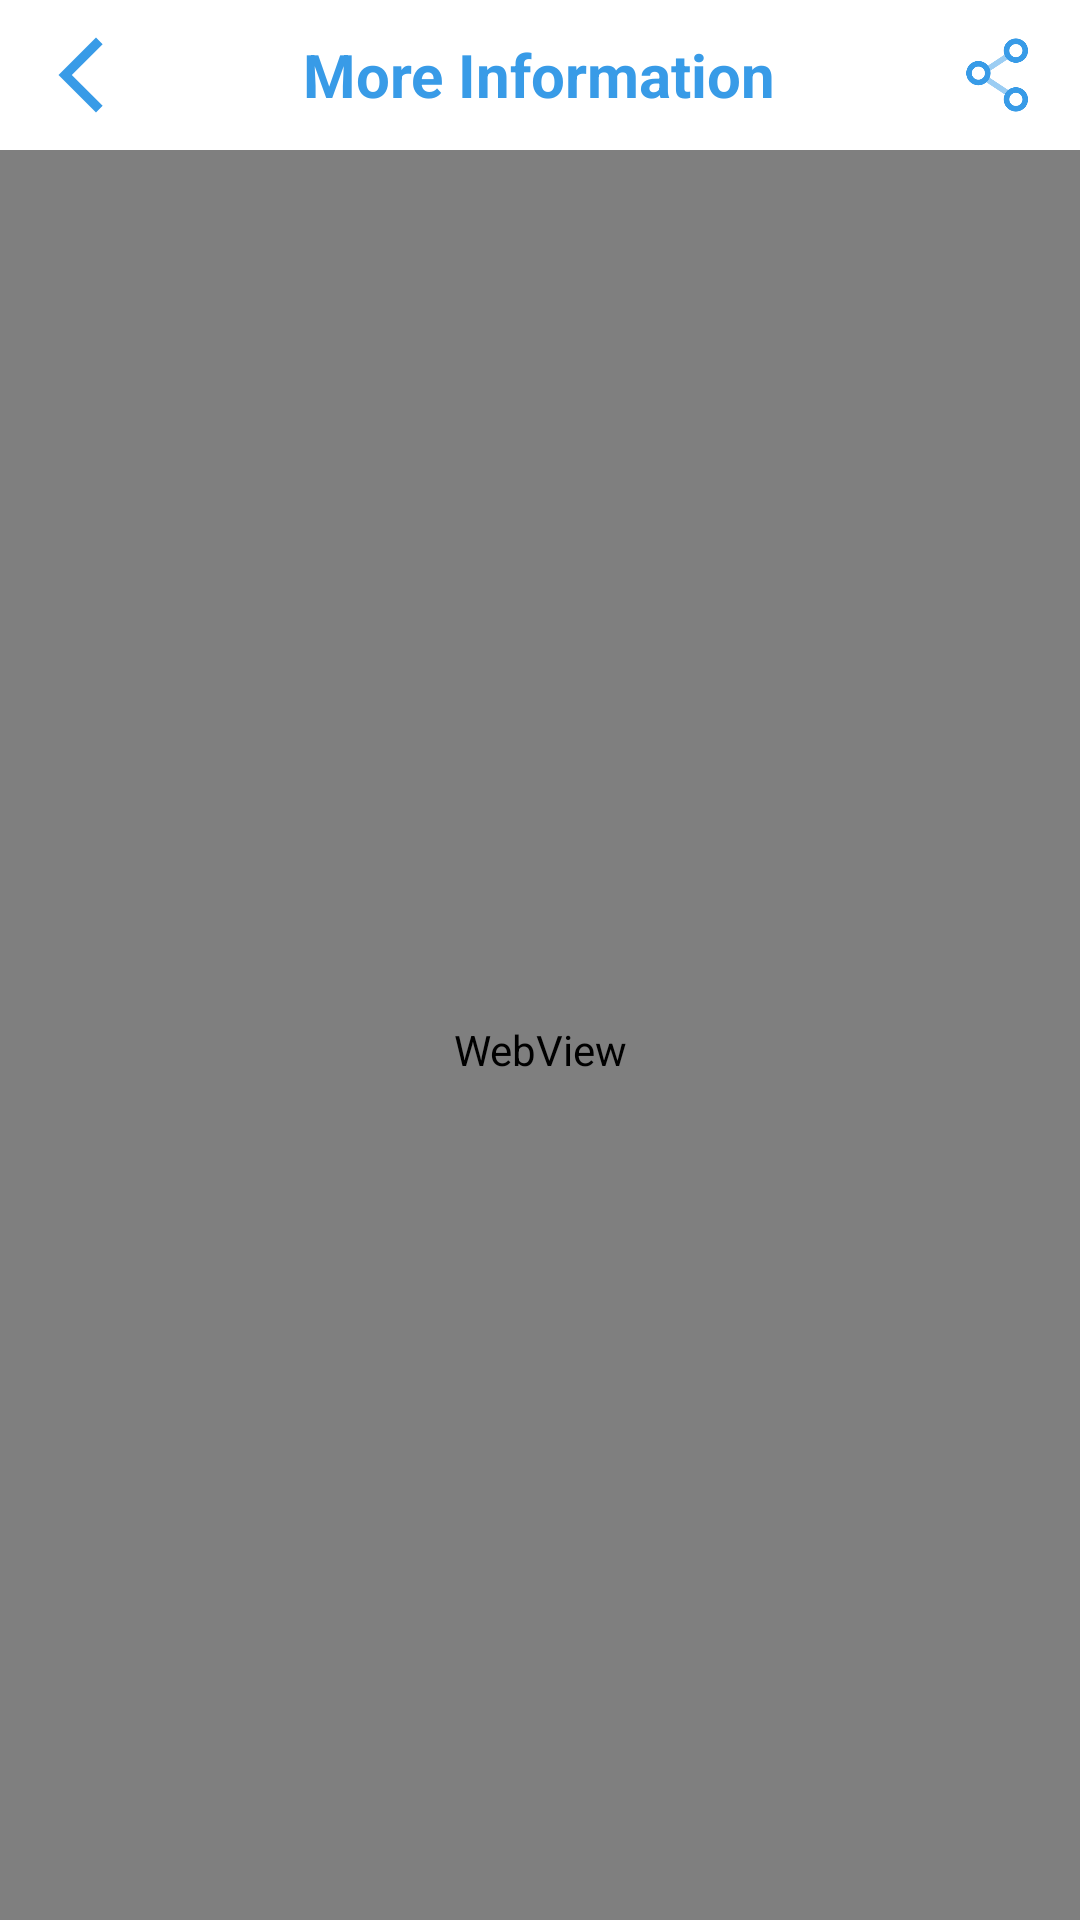

Icons on this 1080px×1920px Android screen, each with its box as (x1, y1, x2, y2):
arrow back: (59, 37, 103, 113)
share media: (966, 38, 1028, 112)
